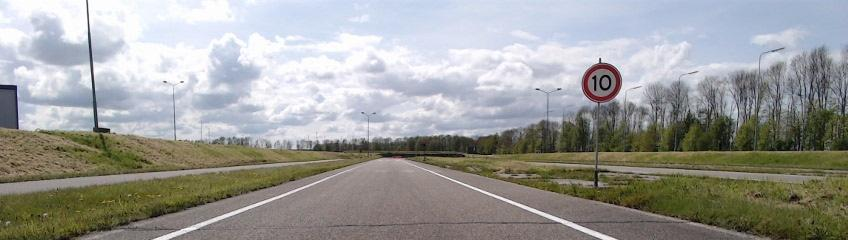Speed-limit-10km-h-: (581, 63, 622, 103)
